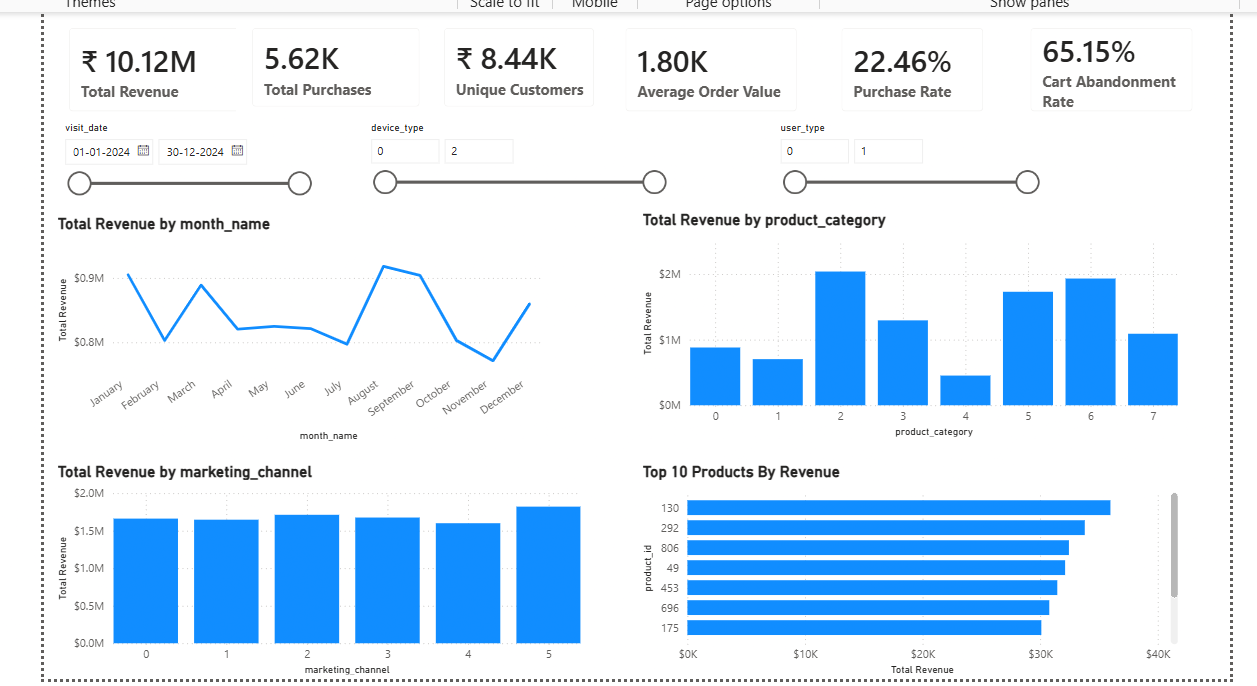

The dashboard page shown, as its layout file describes it:
{"tool":"powerbi","page":{"name":"Executive Overview","canvas":[1280,720],"ordinal":0},"visuals":[{"type":"cardVisual","fields":{"Data":["Ecommerce.Total Revenue"]},"box":[9.4,0,223,124.7],"z":0},{"type":"cardVisual","fields":{"Data":["Ecommerce.Total Purchases"]},"box":[207.9,0,215.4,119.1],"z":1000},{"type":"cardVisual","fields":{"Data":["Ecommerce.Unique Customers"]},"box":[413.9,0,196.5,119.1],"z":2000},{"type":"cardVisual","fields":{"Data":["Ecommerce.Average Order Value"]},"box":[610.4,0,219.2,124.7],"z":3000},{"type":"cardVisual","fields":{"Data":["Ecommerce.Purchase Rate"]},"box":[842.8,0,187.1,124.7],"z":4000},{"type":"cardVisual","fields":{"Data":["Ecommerce.Cart Abandonment Rate"]},"box":[1046.9,0,209.8,124.7],"z":5000},{"type":"lineChart","fields":{"Category":["Ecommerce.month_name"],"Y":["Ecommerce.Total Revenue"]},"box":[9.4,219.2,534.8,249.5],"z":6000},{"type":"clusteredColumnChart","fields":{"Category":["Ecommerce.product_category"],"Y":["Ecommerce.Total Revenue"]},"box":[640.6,213.5,587.7,249.5],"z":7000},{"type":"clusteredColumnChart","fields":{"Category":["Ecommerce.marketing_channel"],"Y":["Ecommerce.Total Revenue"]},"box":[9.4,485.7,574.5,234.3],"z":8000},{"type":"clusteredBarChart","title":"Top 10 Products By Revenue","fields":{"Category":["Ecommerce.product_id"],"Y":["Ecommerce.Total Revenue"]},"box":[640.6,485.7,587.7,234.3],"z":9000},{"type":"slicer","fields":{"Values":["Ecommerce.visit_date"]},"box":[9.4,113.4,287.2,105.8],"z":10000},{"type":"slicer","fields":{"Values":["Ecommerce.device_type"]},"box":[340.2,113.4,340.2,100.2],"z":11000},{"type":"slicer","fields":{"Values":["Ecommerce.user_type"]},"box":[782.4,113.4,300.5,100.2],"z":12000}]}

Visuals, with their boxes on the page's 1280x720 design canvas (x1, y1, x2, y2). These are canvas units, not pixel positions in the 1257x686 screenshot, which may show the page scaled, cropped or inside an application window:
cardVisual - Ecommerce.Total Revenue: region(9, 0, 232, 125)
cardVisual - Ecommerce.Total Purchases: region(208, 0, 423, 119)
cardVisual - Ecommerce.Unique Customers: region(414, 0, 610, 119)
cardVisual - Ecommerce.Average Order Value: region(610, 0, 830, 125)
cardVisual - Ecommerce.Purchase Rate: region(843, 0, 1030, 125)
cardVisual - Ecommerce.Cart Abandonment Rate: region(1047, 0, 1257, 125)
lineChart - Ecommerce.month_name x Ecommerce.Total Revenue: region(9, 219, 544, 469)
clusteredColumnChart - Ecommerce.product_category x Ecommerce.Total Revenue: region(641, 214, 1228, 463)
clusteredColumnChart - Ecommerce.marketing_channel x Ecommerce.Total Revenue: region(9, 486, 584, 720)
"Top 10 Products By Revenue" clusteredBarChart: region(641, 486, 1228, 720)
slicer - Ecommerce.visit_date: region(9, 113, 297, 219)
slicer - Ecommerce.device_type: region(340, 113, 680, 214)
slicer - Ecommerce.user_type: region(782, 113, 1083, 214)
